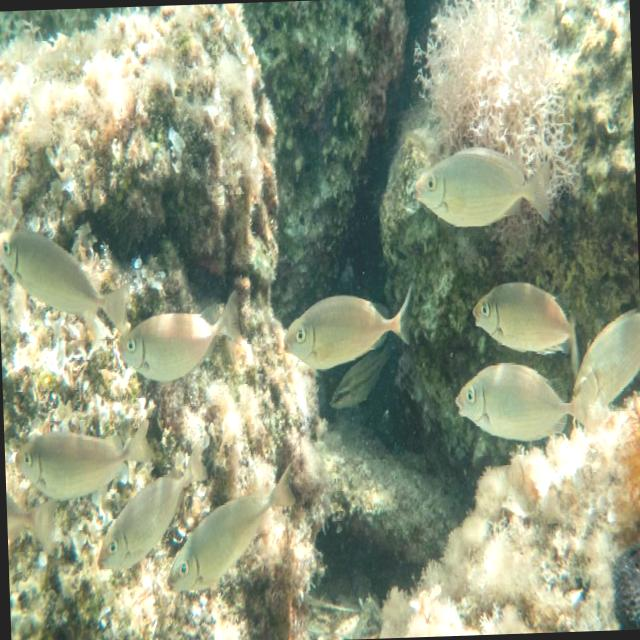Sokar Baligi: (400, 130, 566, 244), (438, 350, 601, 458), (274, 263, 424, 380), (114, 277, 248, 396)
